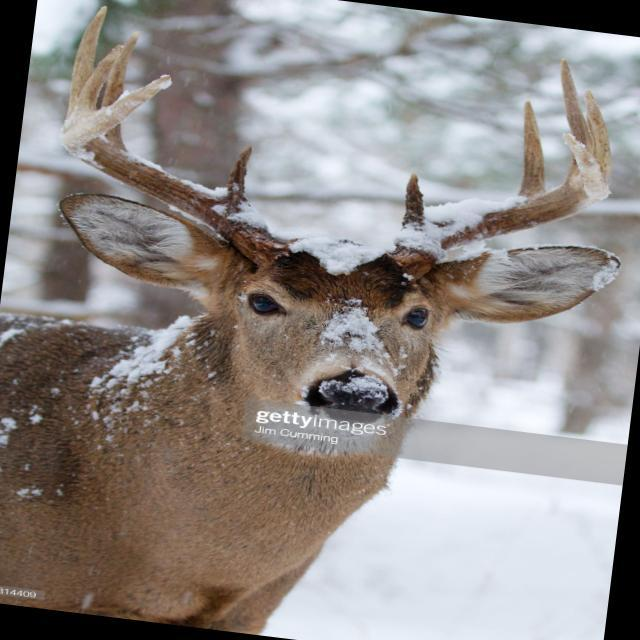L-F: (388, 131, 610, 282)
L-G1: (399, 172, 427, 241)
L-G2: (514, 99, 548, 203)
R-F: (59, 76, 298, 267)
R-G1: (225, 145, 254, 208)
R-G4: (70, 44, 121, 124)
